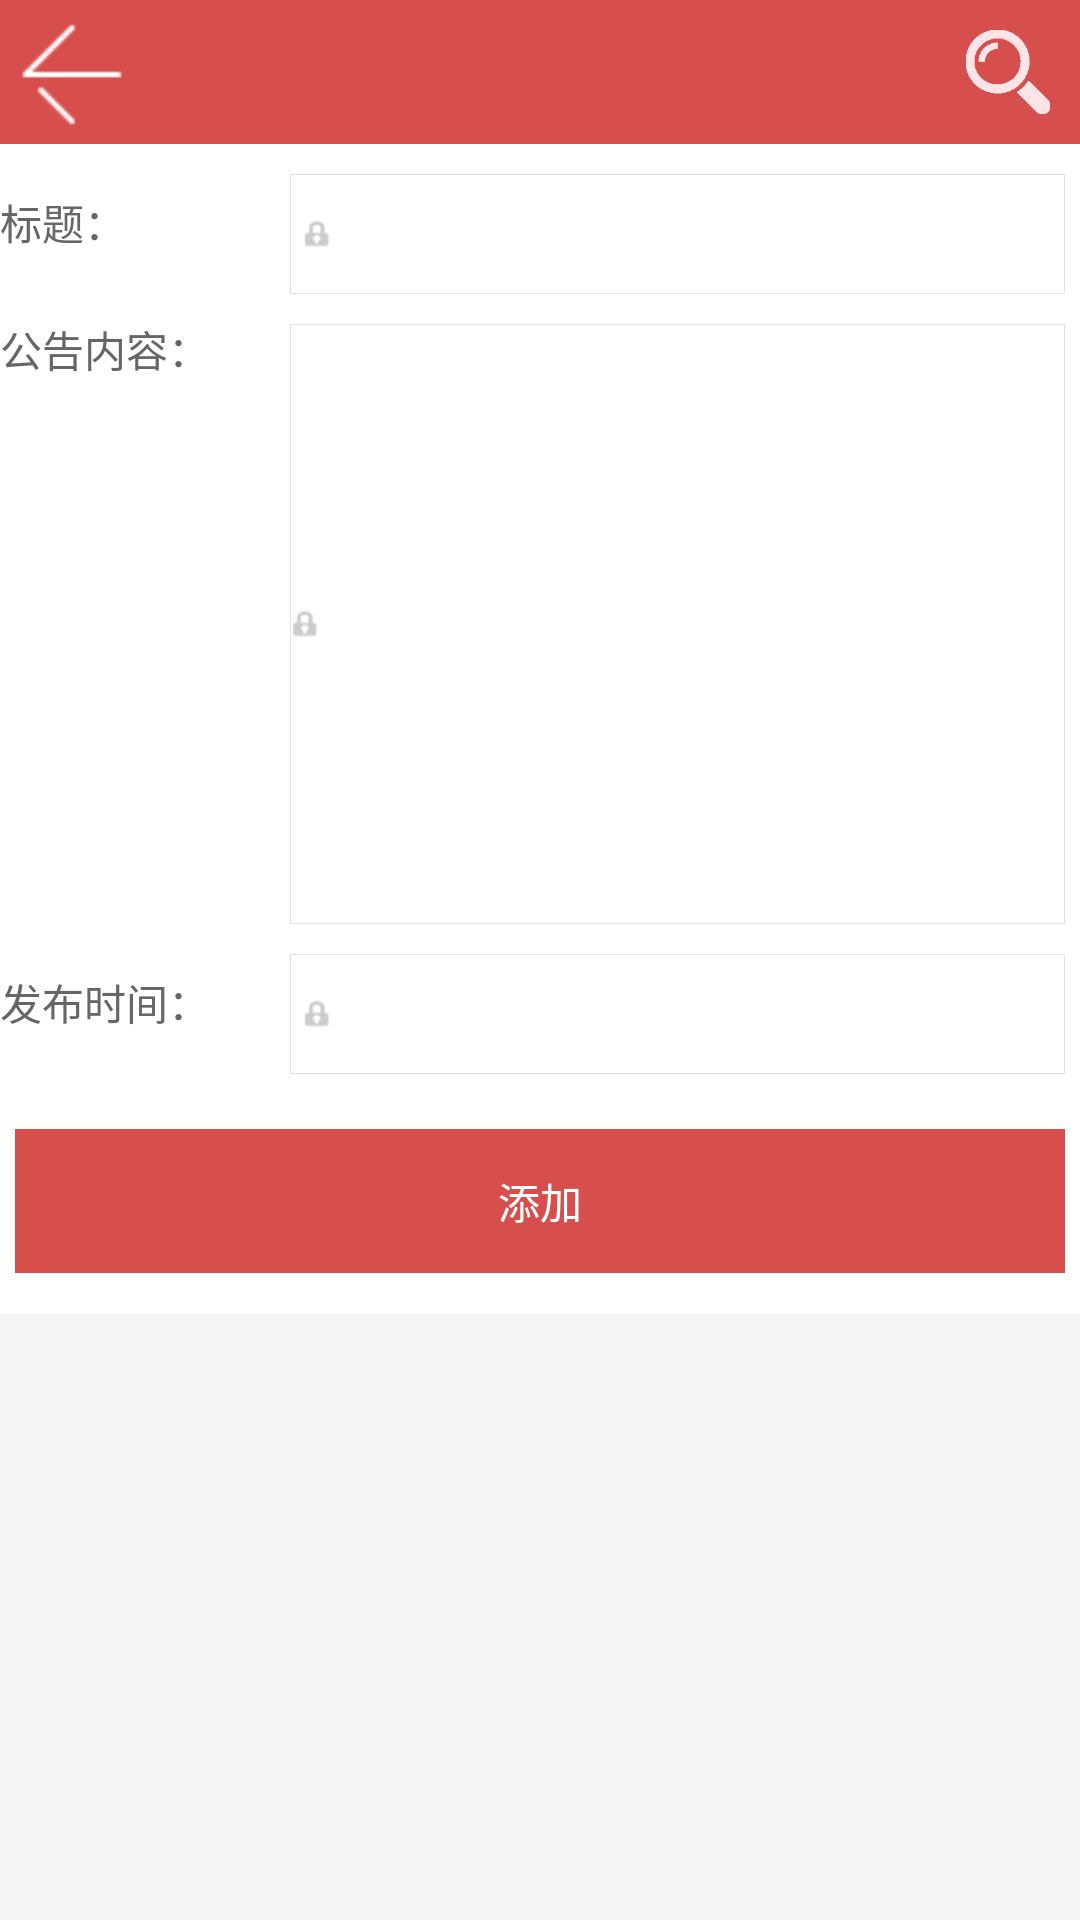

Screen size 1080px×1920px. Icon name, then its box in pixels as (left=x1, top=y1, right=x2, bottom=y2):
left: (left=22, top=25, right=122, bottom=125)
search: (left=966, top=30, right=1050, bottom=114)
